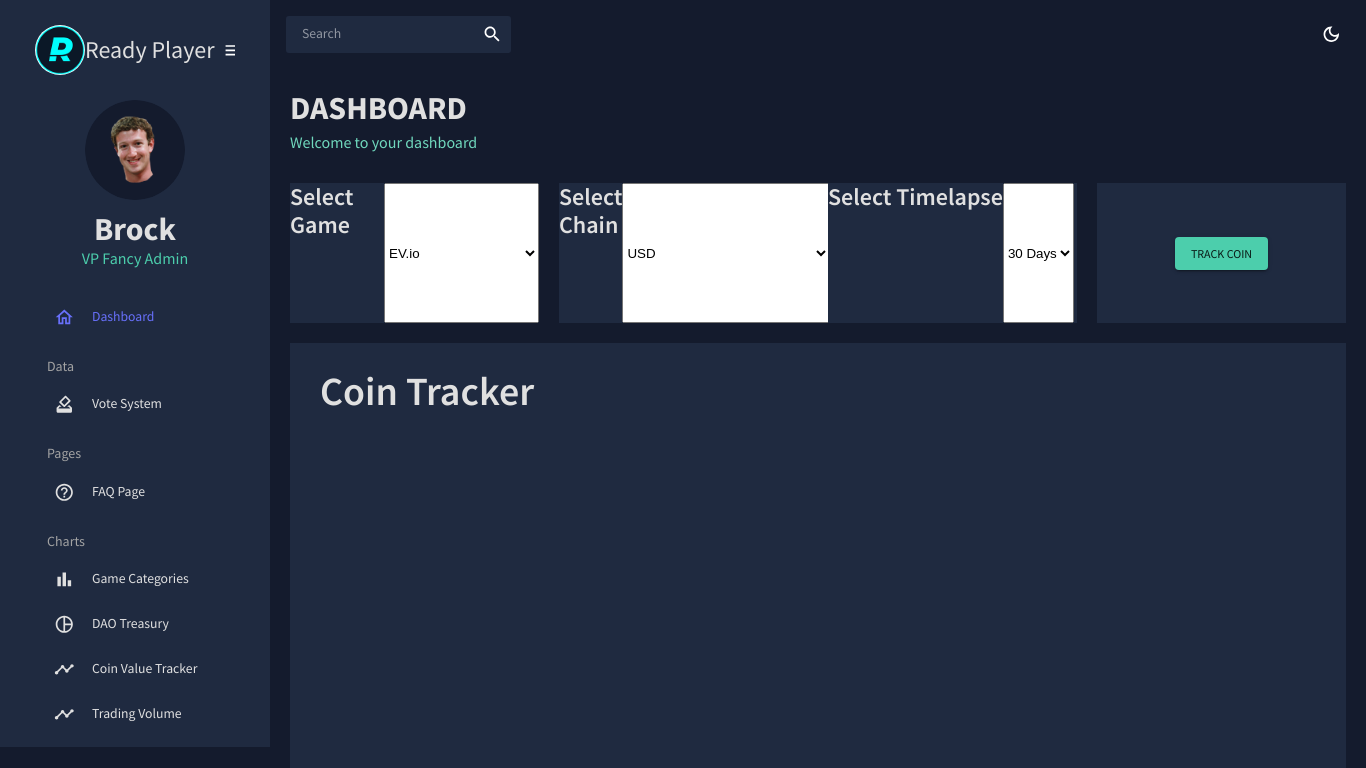
Sidebar › should toggle the sidebar when the collapse/expand button is clicked
The image size is (1366, 768).
Check: the element that starts with "Ready Player" is shown, box x1=0 y1=0 x2=270 y2=747
Check: the heading "Brock" is shown, box x1=94 y1=209 x2=176 y2=249
Click the collapse/expand button.
Click the icon with test id "MenuOutlinedIcon". click: (234, 51)
box: x1=223 y1=40 x2=244 y2=61
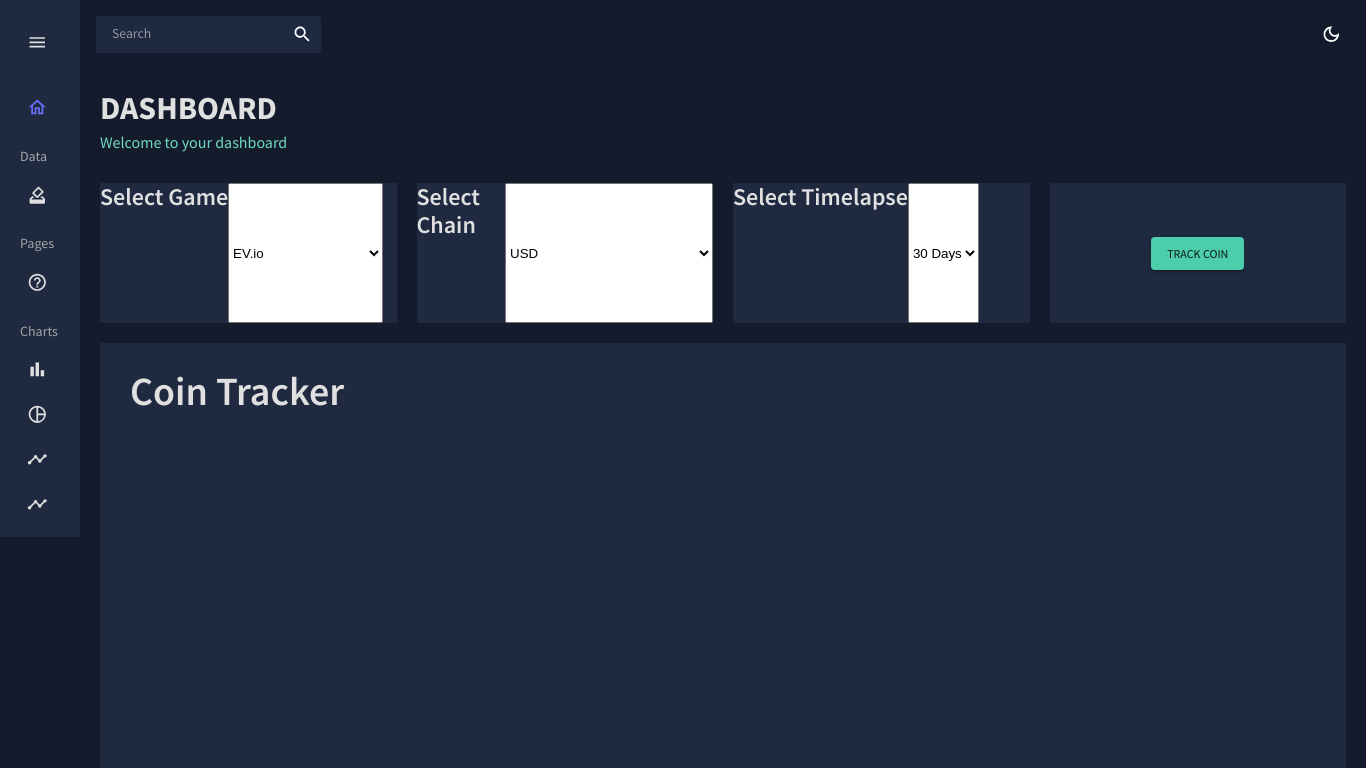
Check: the heading "Brock" is gone
Click the collapse/expand button again.
Click the icon with test id "MenuOutlinedIcon". click: (38, 43)
box: x1=27 y1=32 x2=48 y2=53
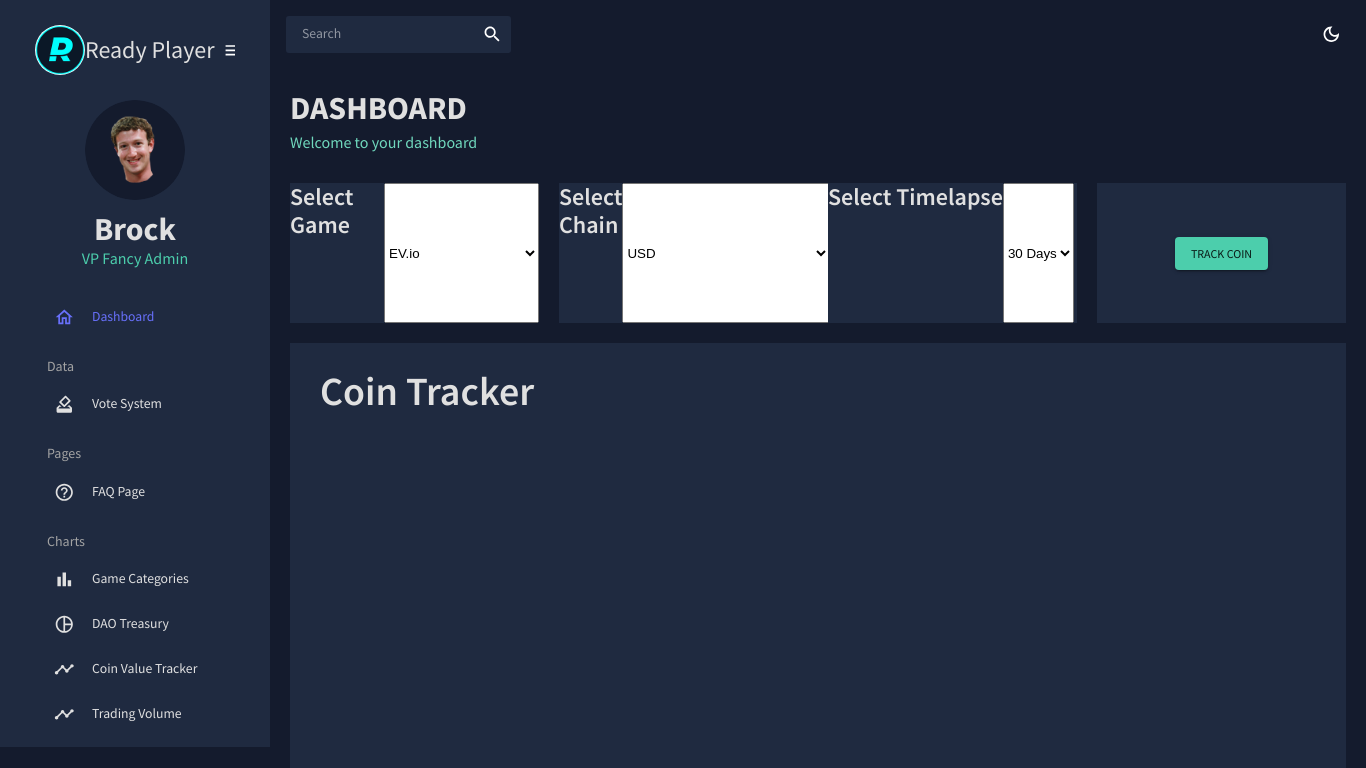
Check: the heading "Brock" is shown, box x1=94 y1=209 x2=176 y2=249
